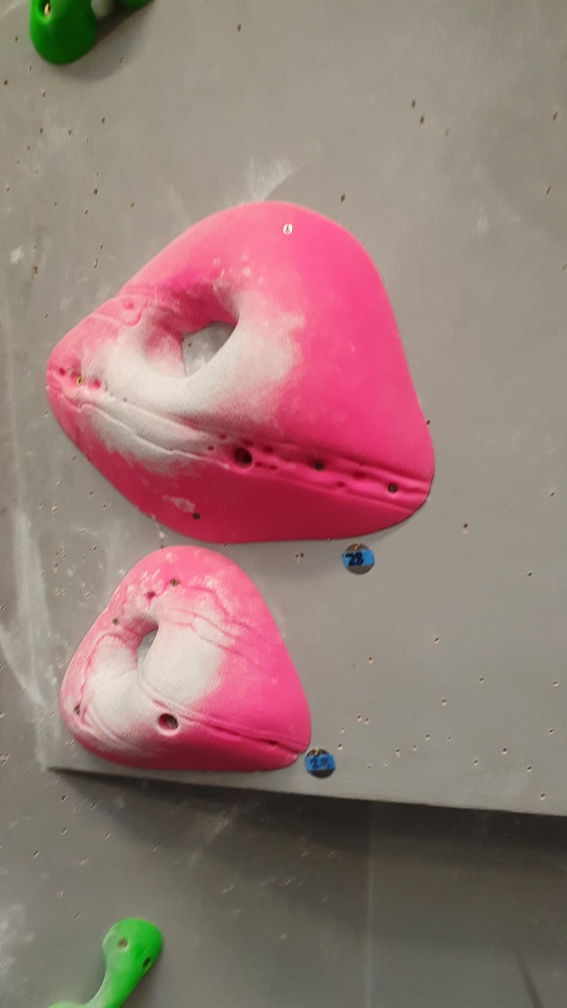Hand Start: (334, 539, 377, 580), (301, 745, 342, 781)
Pocket: (43, 196, 437, 543), (52, 542, 318, 778)
